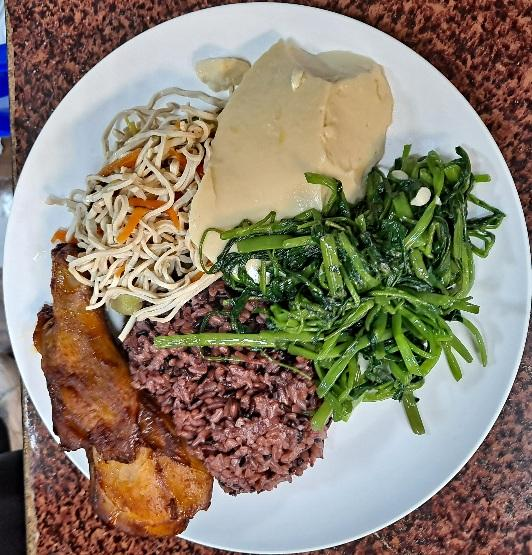big fried chicken leg: (2, 7, 532, 550)
braised fish: (138, 279, 329, 493)
braised fish fillet: (246, 172, 496, 403), (207, 52, 392, 233), (68, 99, 218, 316)
braised pork: (39, 248, 186, 535)
